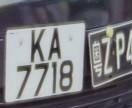1: (49, 58, 60, 97)
7: (13, 61, 34, 101), (32, 60, 51, 98)
8: (58, 57, 76, 96)
A: (47, 25, 64, 65)
K: (28, 27, 46, 67)
